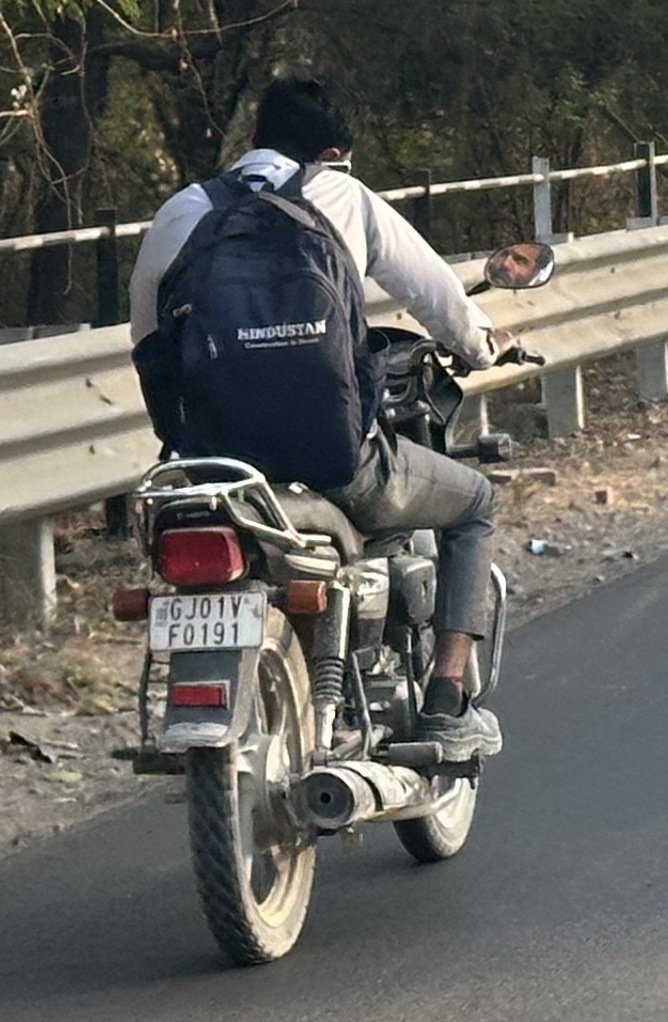BikeWithRider: (92, 63, 565, 981)
NoHelmet: (233, 66, 370, 187)
